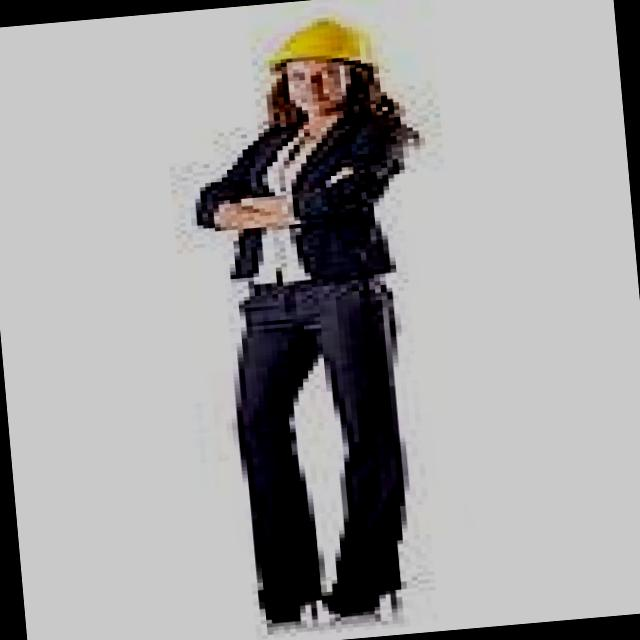helmet: (260, 12, 396, 83)
no-goggles: (266, 58, 391, 98)
no-vest: (177, 109, 414, 301)
